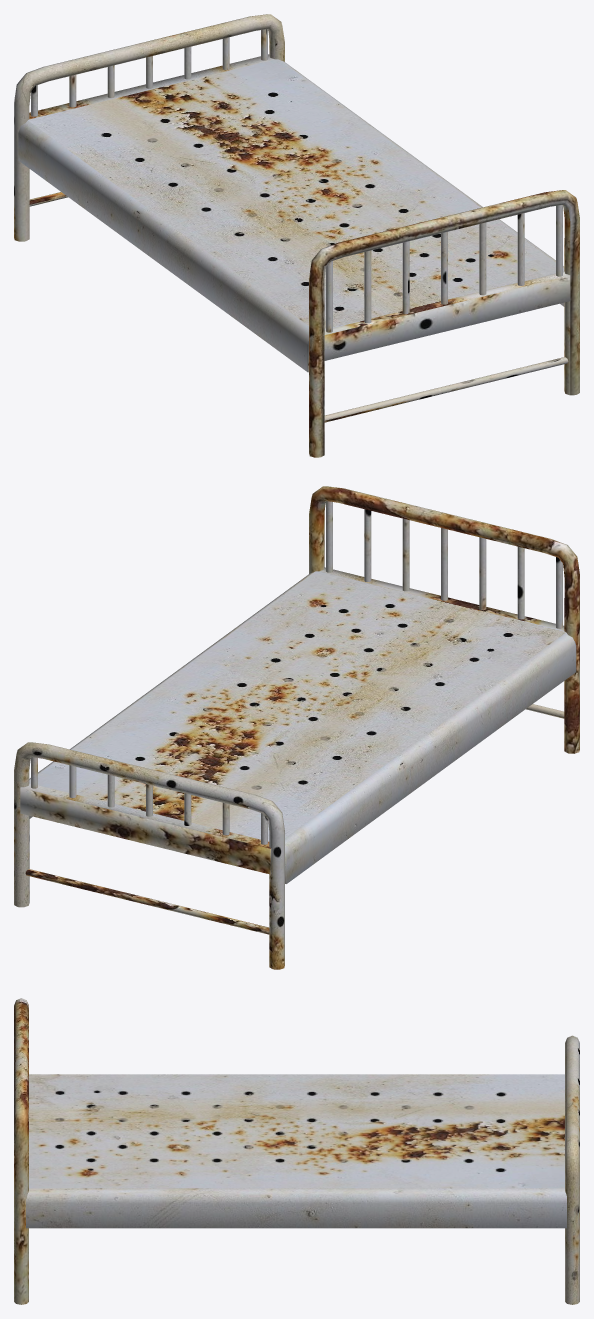
File: Bed.glb
3 views of the same model, one above another, from view 1: azimuth 30°, elevation 25°; view 2: azimuth 150°, elevation 25°; view 3: azimuth 270°, elevation 25° (orthographic). The views are drawn at different scales.
Visible parts, largest first — view 1: Cube; view 2: Cube; view 3: Cube.
Part boxes in pixels (bbox=[...]): Cube: bbox=[14, 14, 579, 457]; Cube: bbox=[14, 486, 579, 969]; Cube: bbox=[14, 998, 579, 1304].
Size of the model in its own units: 2.11 by 1.54 by 4.11.
Materials: 1 (1 with a texture image).
